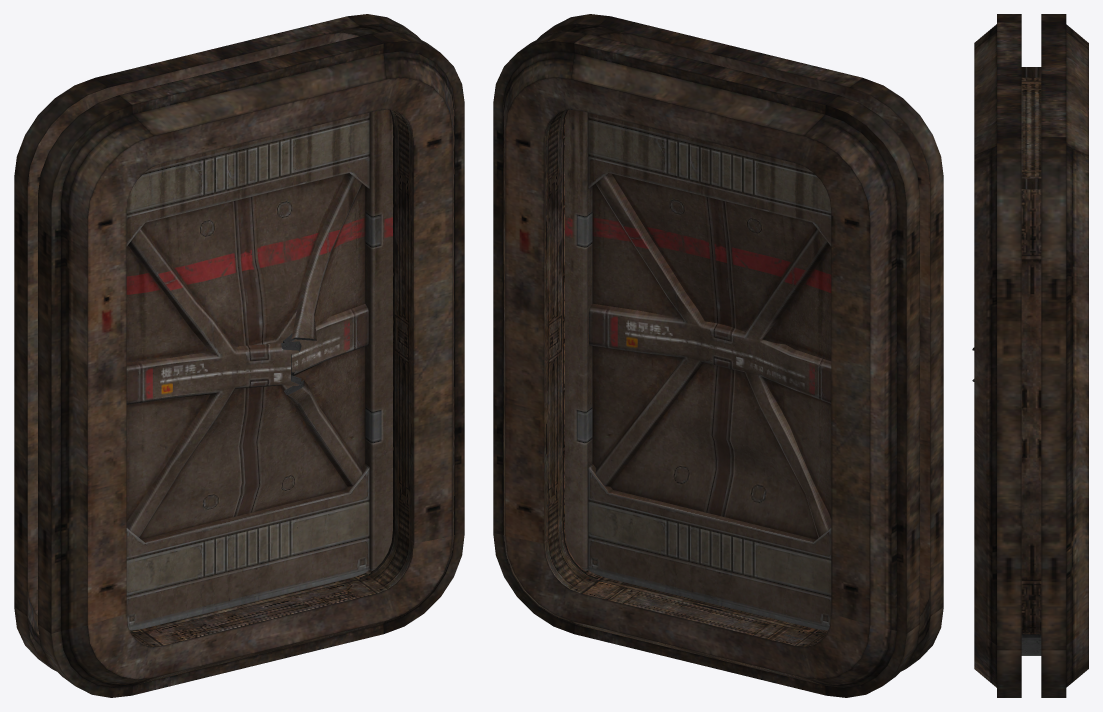
The model's file is slidedoor_theta_tunnels_battered02.dae.
The picture shows the model from 3 angles, left to right: view 1: azimuth 30°, elevation 25°; view 2: azimuth 150°, elevation 25°; view 3: azimuth 270°, elevation 25°; orthographic projection. The views are drawn at different scales.
Visible parts, largest first — view 1: frame, polySurface24; view 2: frame, polySurface24; view 3: frame, polySurface24.
Part boxes in pixels (<box>): frame: <box>14,14,464,697</box>; polySurface24: <box>126,109,392,630</box>; frame: <box>493,14,943,697</box>; polySurface24: <box>565,109,831,630</box>; frame: <box>974,14,1088,697</box>; polySurface24: <box>972,67,1041,655</box>.
Bounding box in the file's own units: 2.53 × 3.46 × 0.6626.
2 materials, 2 textured.
